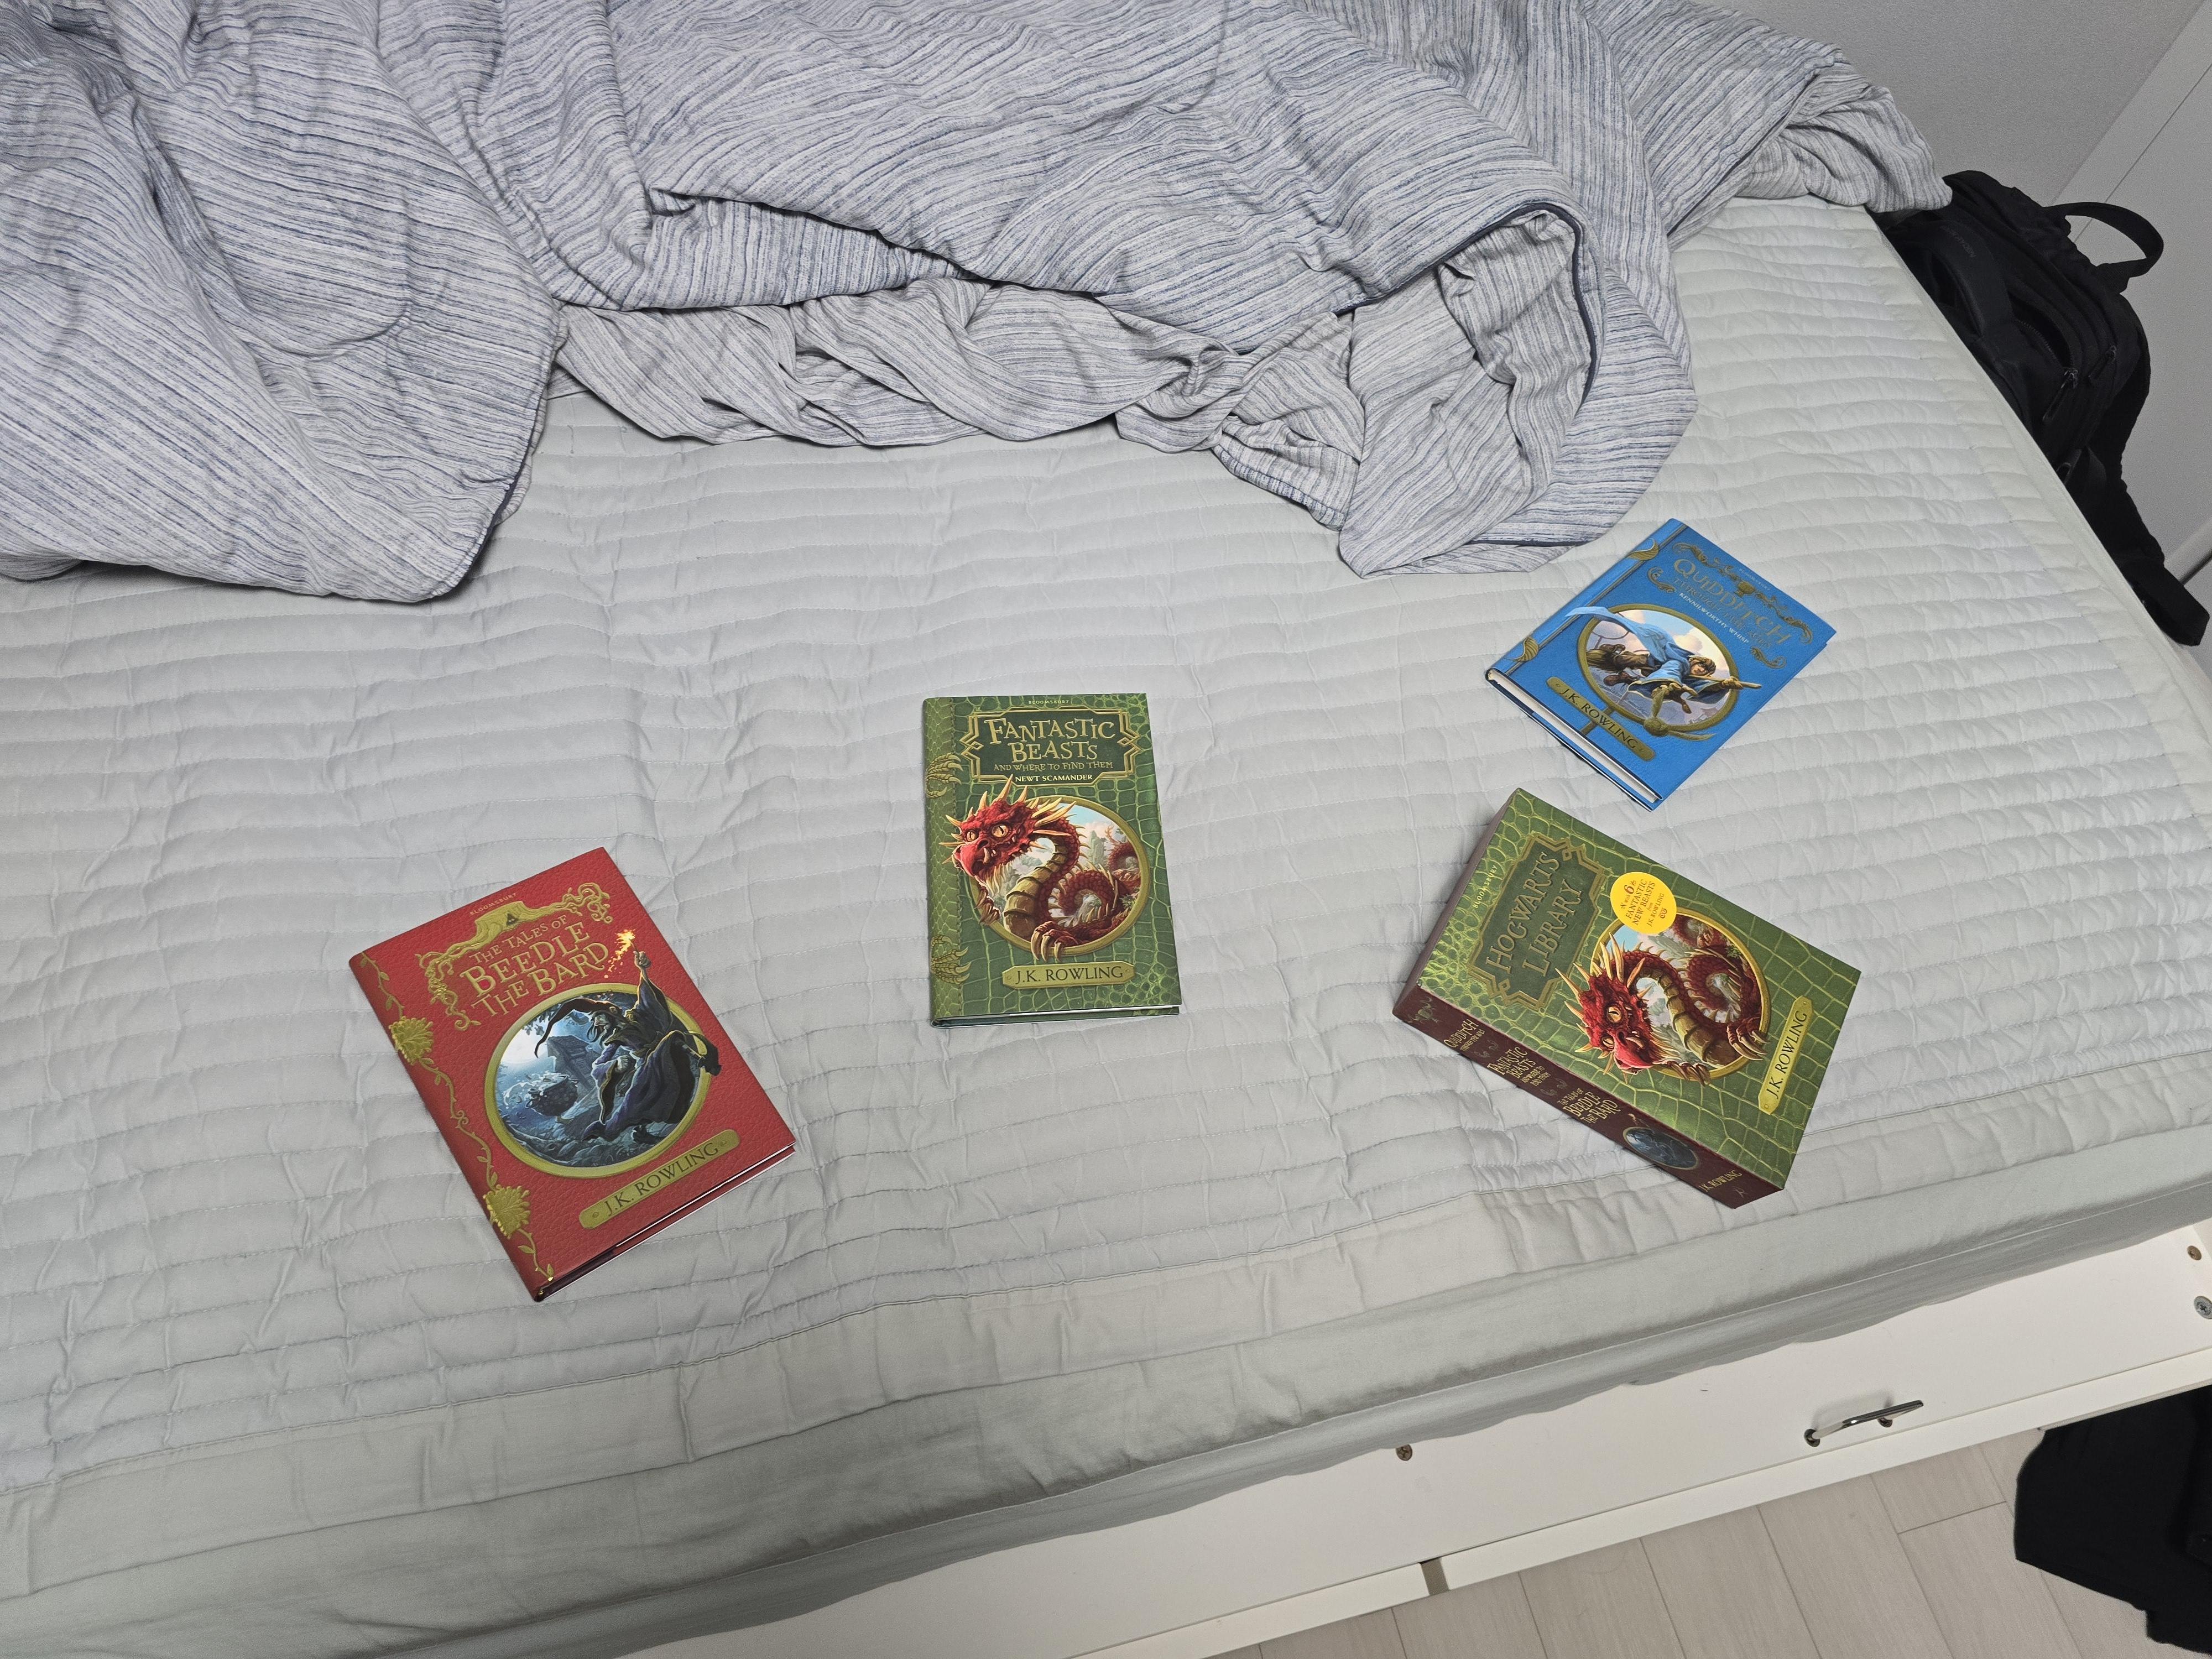book: (347, 845, 796, 1302), (1392, 786, 1862, 1211), (1484, 516, 1836, 810), (921, 690, 1181, 1026)
